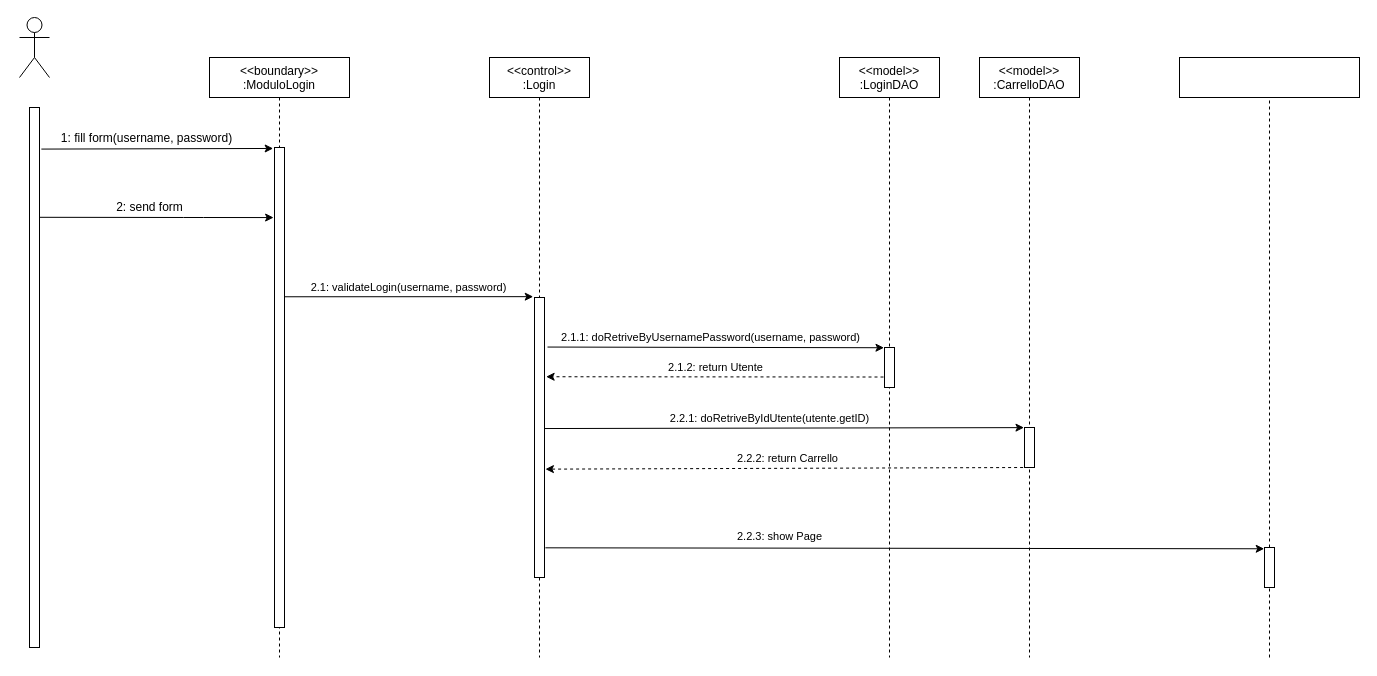
Image size: 1377x676. Some labels were removed from this diagram. The centre of each missing label's shape, as x and y in pixels:
<<boundary>> :HomePage: (1269,77)
Utente: (34,47)
